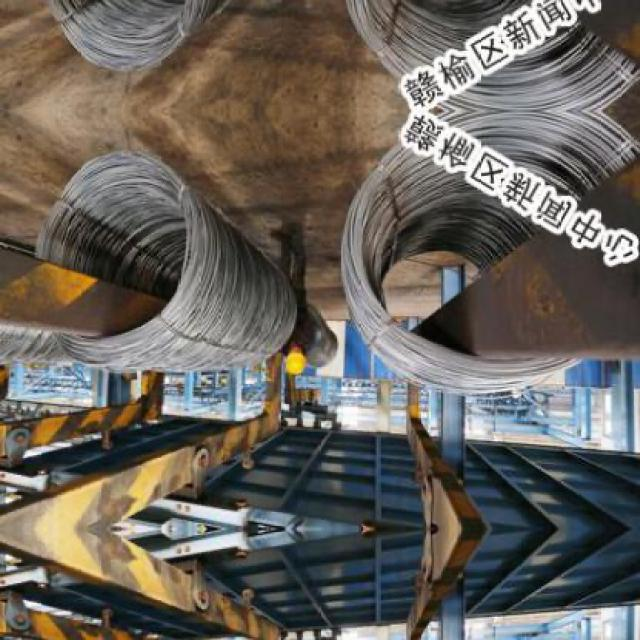con casco: (260, 336, 326, 376)
